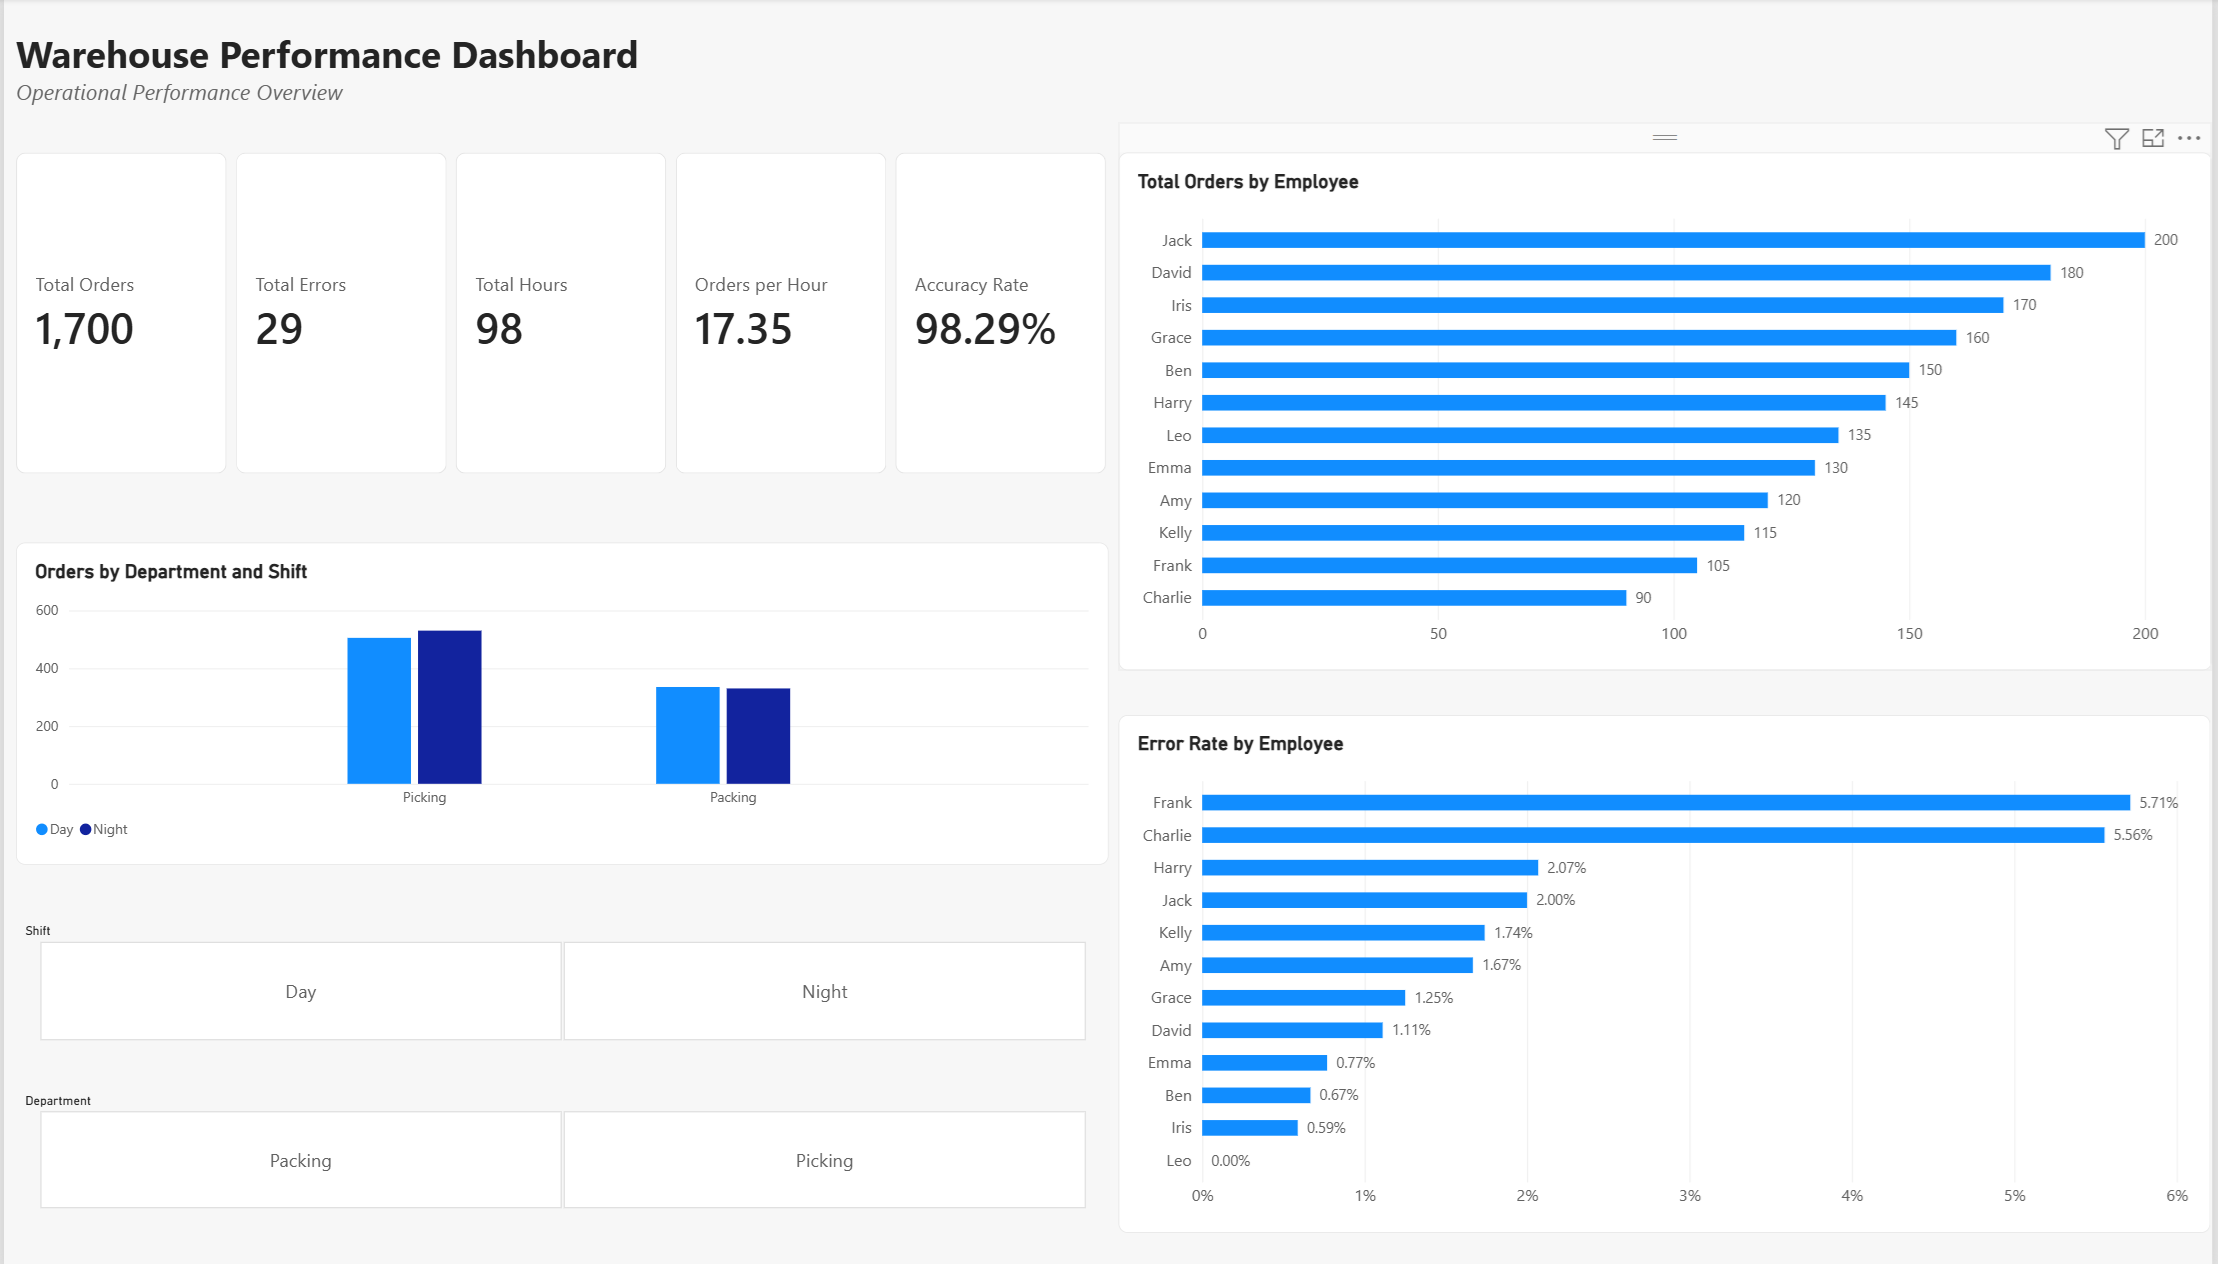

What the dashboard file says about the page in this screenshot:
{"tool":"powerbi","page":{"name":"Overview","canvas":[1920,1080],"ordinal":0},"visuals":[{"type":"cardVisual","fields":{"Data":["WarehouseData_1__2.Total orders","WarehouseData_1__2.Total errors","WarehouseData_1__2.Total hours","WarehouseData_1__2.Orders per Hour","WarehouseData_1__2.Accuracy Rate"]},"box":[10,108.3,949,279.8],"z":0},{"type":"clusteredColumnChart","title":"Orders by Department and Shift","fields":{"Category":["WarehouseData_1__2.Department"],"Series":["WarehouseData_1__2.Shift"],"Y":["WarehouseData_1__2.Total orders"]},"box":[10,446.7,949,280],"z":1000},{"type":"slicer","fields":{"Values":["WarehouseData_1__2.Shift"]},"box":[10,778.3,948.3,103.3],"z":2000},{"type":"slicer","fields":{"Values":["WarehouseData_1__2.Department"]},"box":[10,925,948.3,101.7],"z":3000},{"type":"clusteredBarChart","title":"Total Orders by Employee","fields":{"Category":["WarehouseData_1__2.Employee"],"Y":["WarehouseData_1__2.Total orders"]},"box":[968.3,108.3,950,450],"z":4000},{"type":"clusteredBarChart","title":"Error Rate by Employee","fields":{"Category":["WarehouseData_1__2.Employee"],"Y":["WarehouseData_1__2.Error Rate"]},"box":[968.3,596.7,948.3,450],"z":5000},{"type":"textbox","box":[10,0,900,108.3],"z":6000}]}

Visuals, with their boxes in screenshot pixels (x1, y1, x2, y2), scaled from the page's 1920x1080 canvas onto the 2218x1264 screenshot:
cardVisual - WarehouseData_1__2.Total orders x WarehouseData_1__2.Total errors: BBox(12, 127, 1108, 454)
"Orders by Department and Shift" clusteredColumnChart: BBox(12, 523, 1108, 851)
slicer - WarehouseData_1__2.Shift: BBox(12, 911, 1107, 1032)
slicer - WarehouseData_1__2.Department: BBox(12, 1083, 1107, 1202)
"Total Orders by Employee" clusteredBarChart: BBox(1119, 127, 2216, 653)
"Error Rate by Employee" clusteredBarChart: BBox(1119, 698, 2214, 1225)
textbox: BBox(12, 0, 1051, 127)
